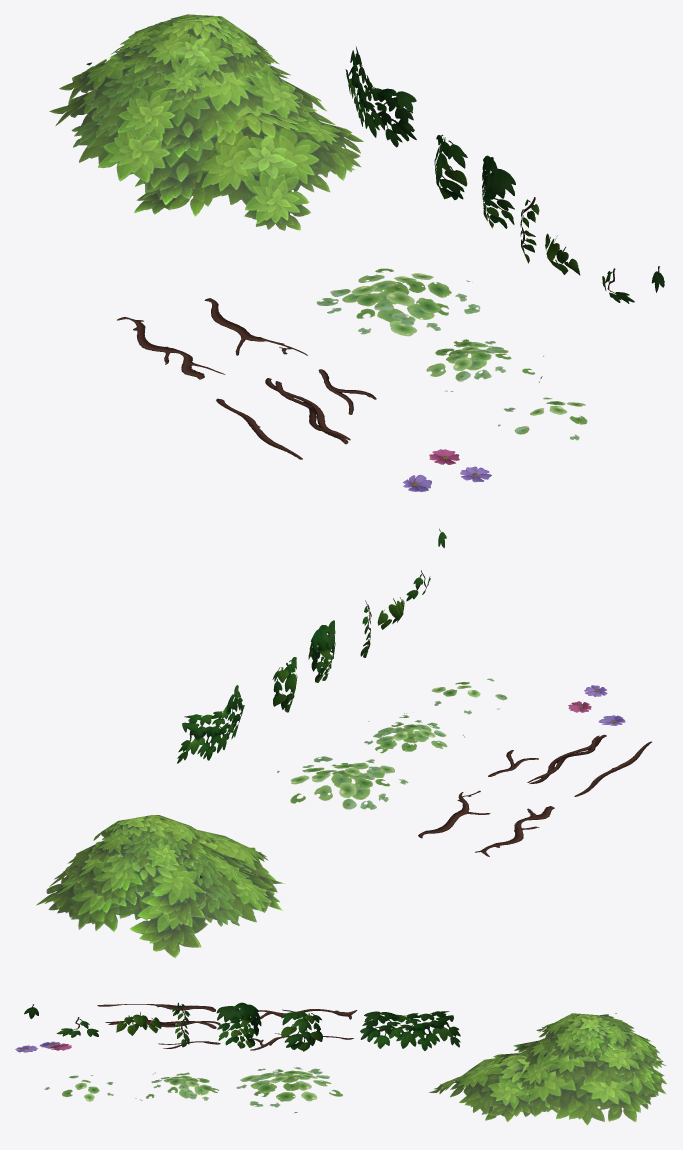
Rendered from Vegetation.fbx.
The picture shows the model from 3 angles, top to bottom: view 1: azimuth 30°, elevation 25°; view 2: azimuth 150°, elevation 25°; view 3: azimuth 270°, elevation 25°; orthographic projection. The views are drawn at different scales.
Visible parts, largest first — view 1: Plane.006, Plane.004, Plane.005, Plane, Plane.007, Plane.026, Plane.008, Plane.024, Plane.025, Plane.011, Plane.017, Plane.010; view 2: Plane.004, Plane, Plane.005, Plane.007, Plane.026, Plane.006, Plane.008, Plane.024, Plane.025; view 3: Plane, Plane.004, Plane.006, Plane.005, Plane.026, Plane.007, Plane.024, Plane.025, Plane.008, Plane.022, Plane.023, Plane.009 (+5 smaller).
Part boxes in pixels (<box>): Plane.006: <box>134,106,363,230</box>; Plane.004: <box>59,46,316,157</box>; Plane.005: <box>86,14,273,101</box>; Plane: <box>49,78,354,204</box>; Plane.007: <box>316,268,480,336</box>; Plane.026: <box>345,46,416,147</box>; Plane.008: <box>426,339,543,391</box>; Plane.024: <box>482,155,515,228</box>; Plane.025: <box>434,134,467,200</box>; Plane.011: <box>117,317,225,379</box>; Plane.017: <box>265,378,350,444</box>; Plane.010: <box>204,298,307,355</box>; Plane.004: <box>61,840,249,925</box>; Plane: <box>36,860,285,957</box>; Plane.005: <box>88,815,216,878</box>; Plane.007: <box>277,756,408,809</box>; Plane.026: <box>177,685,244,763</box>; Plane.006: <box>119,830,282,922</box>; Plane.008: <box>364,713,465,753</box>; Plane.024: <box>308,620,335,682</box>; Plane.025: <box>272,657,297,712</box>; Plane: <box>481,1053,666,1125</box>; Plane.004: <box>513,1032,661,1091</box>; Plane.006: <box>429,1055,559,1121</box>; Plane.005: <box>536,1013,637,1061</box>; Plane.026: <box>360,1011,460,1050</box>; Plane.007: <box>236,1067,342,1113</box>; Plane.024: <box>216,1002,261,1048</box>; Plane.025: <box>281,1010,322,1051</box>; Plane.008: <box>135,1072,219,1100</box>; Plane.022: <box>116,1012,161,1035</box>; Plane.023: <box>172,1002,190,1047</box>; Plane.009: <box>44,1075,113,1101</box>.
Bounding box in the file's own units: 3.5 × 1.53 × 7.18.
